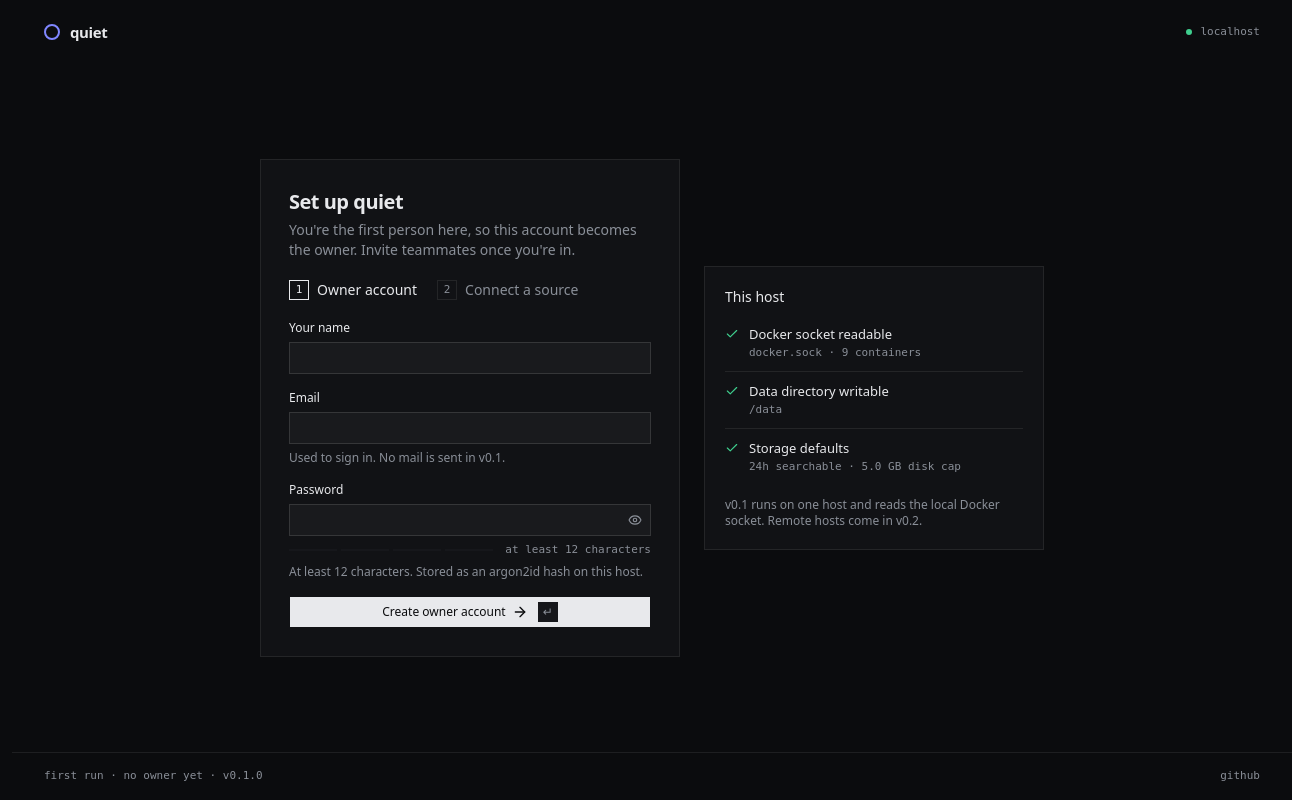
Test case: first-run setup › creates the owner and lands on the app
This screenshot has width=1292, height=800.
expect the text "docker.sock · 9 containers" is shown: met, box [749, 344, 921, 361]
Type "Kwaame Ofori-adjekum" into the field labelled "Your name" at (470, 358), box [289, 342, 651, 374]
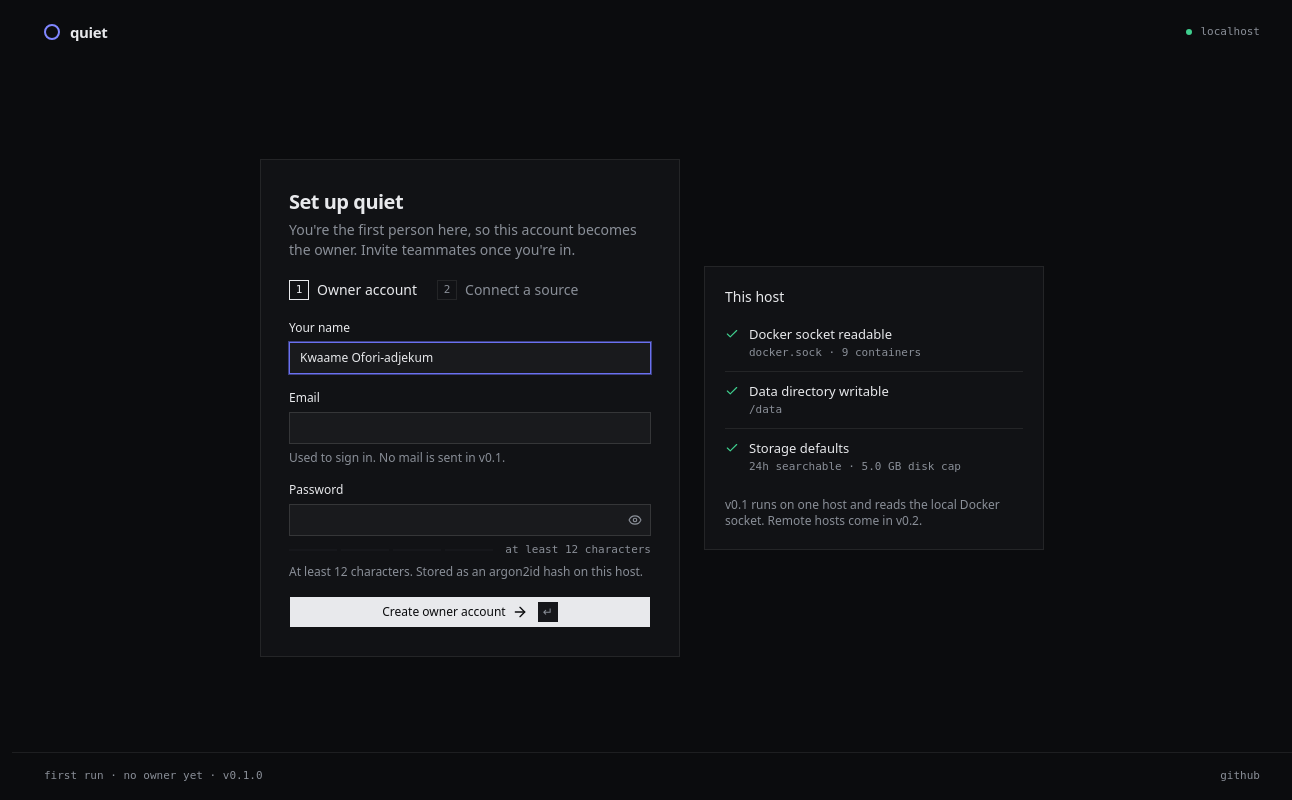
Type "kwaame@legivent.com" into the field labelled "Email" at (470, 428), box [289, 412, 651, 444]
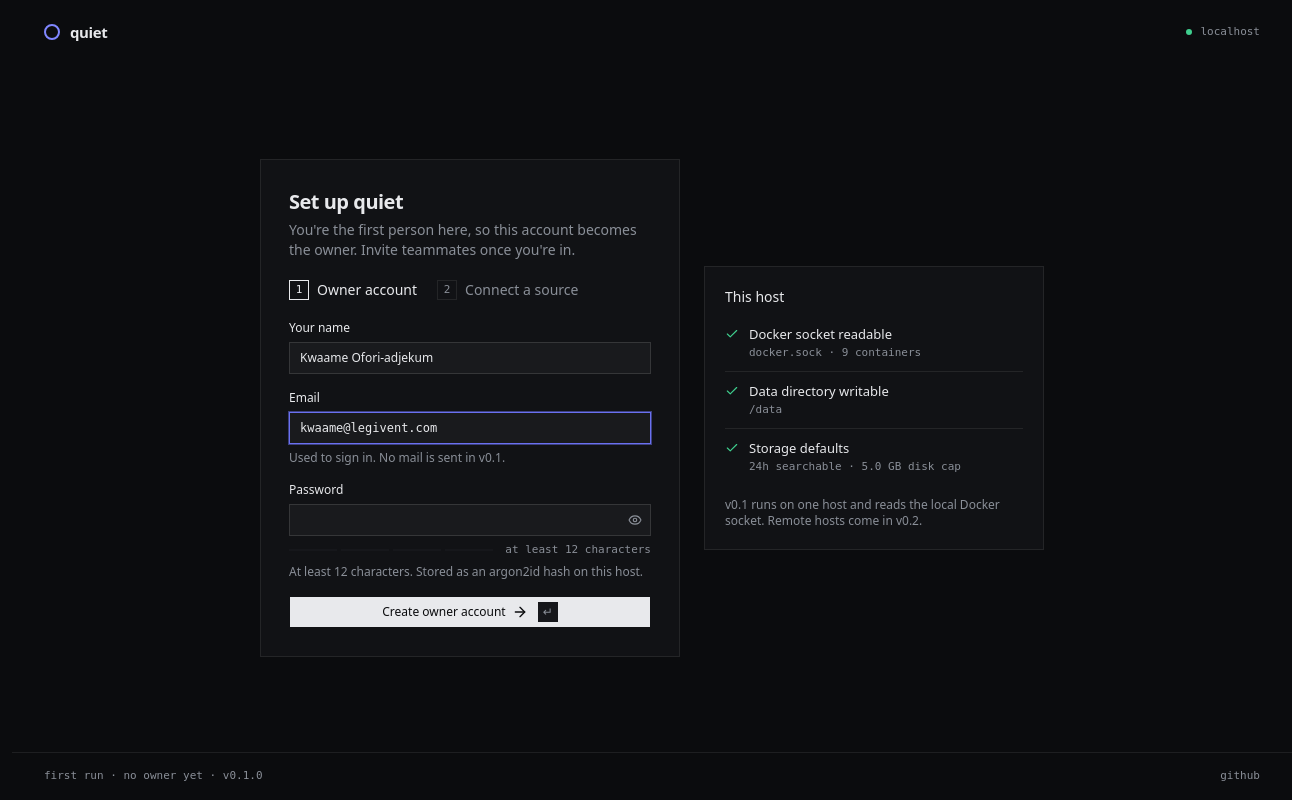
Type "short" into the password field labelled "Password" at (470, 520), box [289, 504, 651, 536]
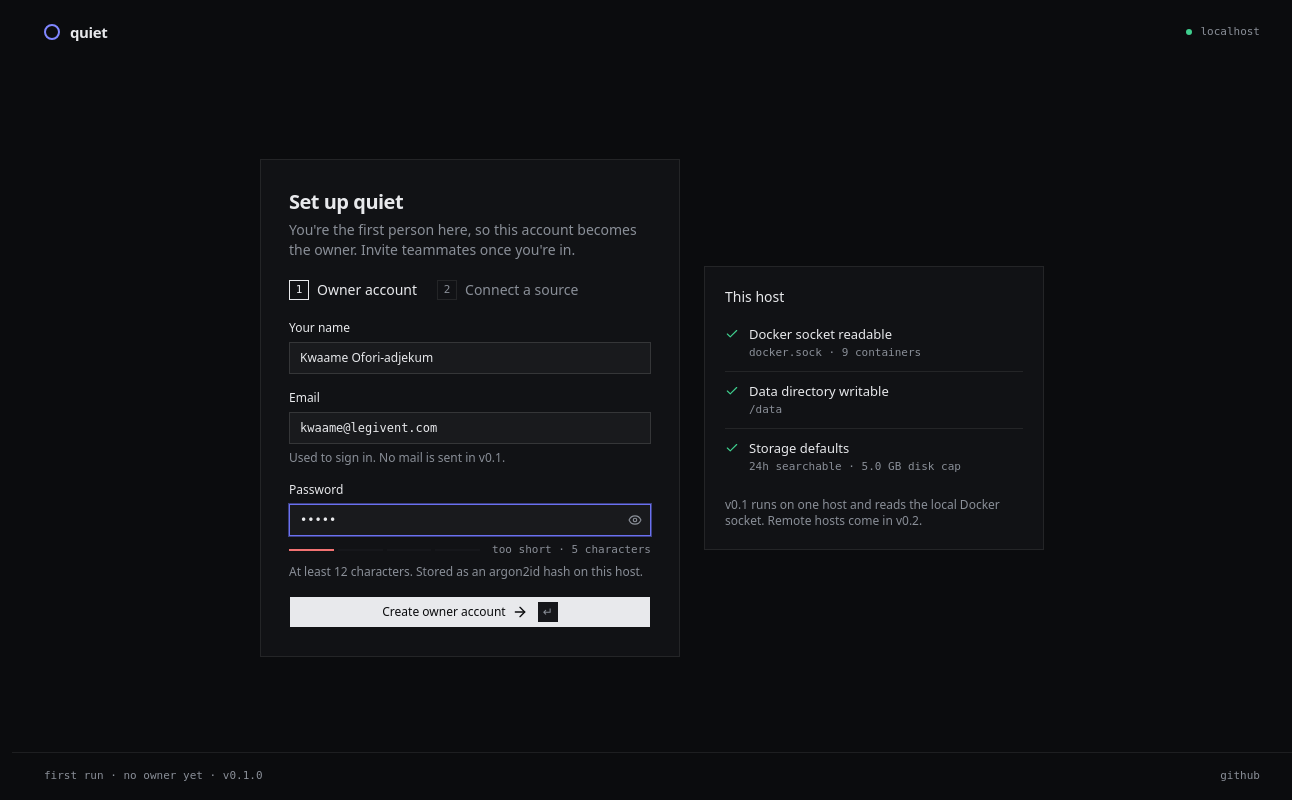
expect the text "too short · 5 characters" is shown: met, box [492, 542, 651, 558]
Type " but now Long!" into the password field labelled "Password" at (470, 520), box [289, 504, 651, 536]
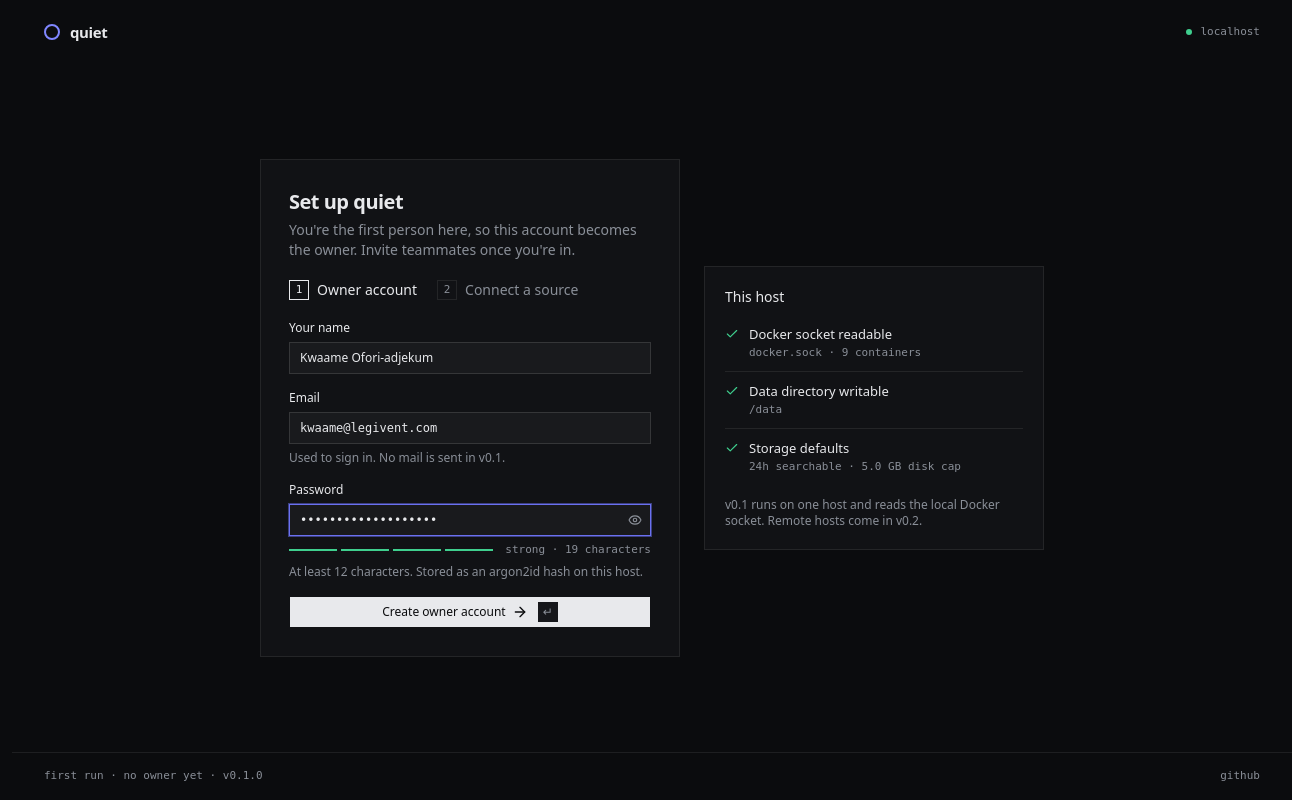
expect the text "strong · 19 characters" is shown: met, box [505, 542, 651, 558]
Click the button "Create owner account ↵" at (470, 612), box [289, 596, 651, 628]
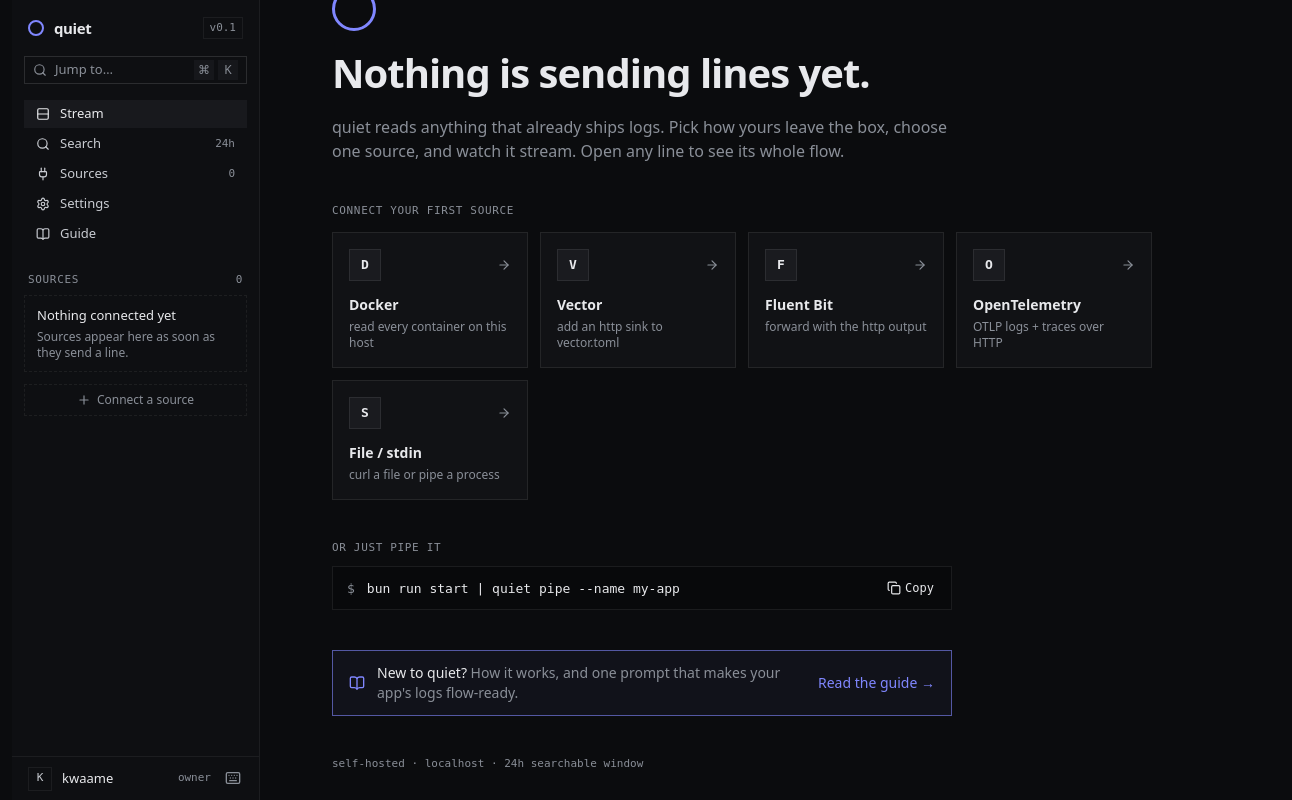
expect the button with aria-label "Account menu" is shown: met, box [12, 756, 259, 799]
